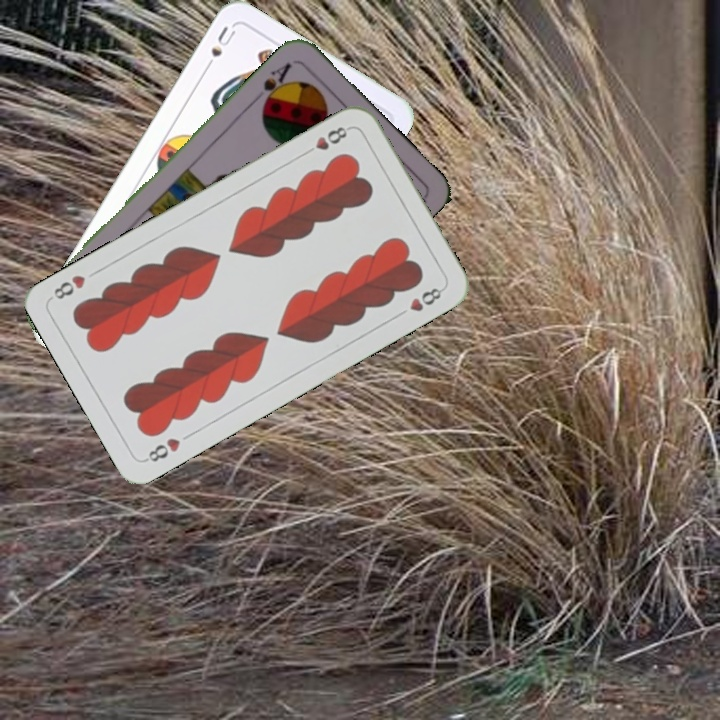H8: (299, 122, 353, 158), (141, 434, 183, 465)
SA: (257, 59, 294, 110)
SU: (200, 22, 239, 75)
